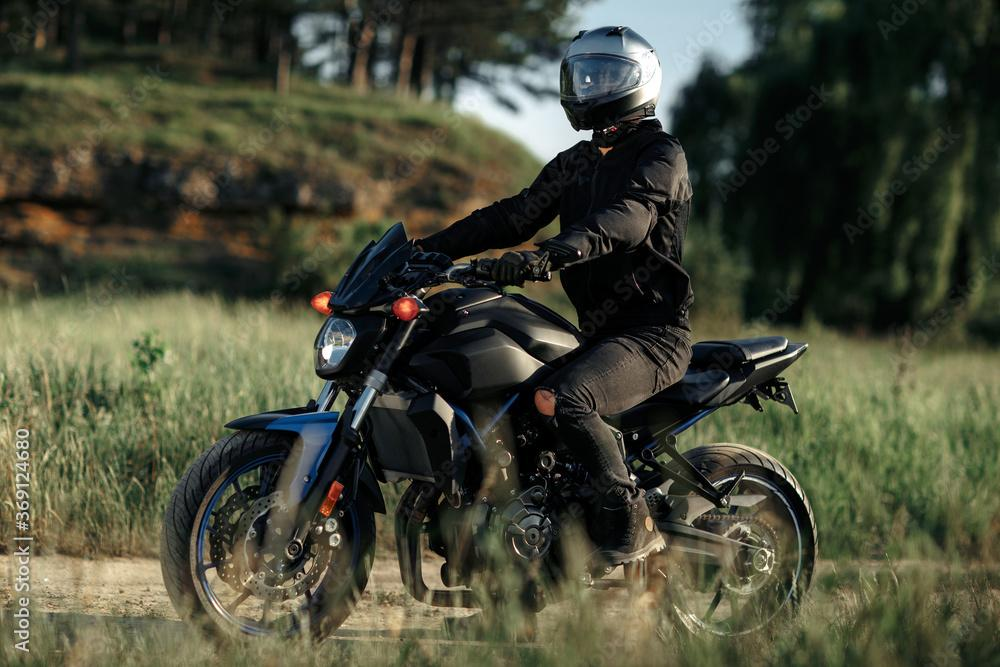helmet: (559, 25, 662, 133)
